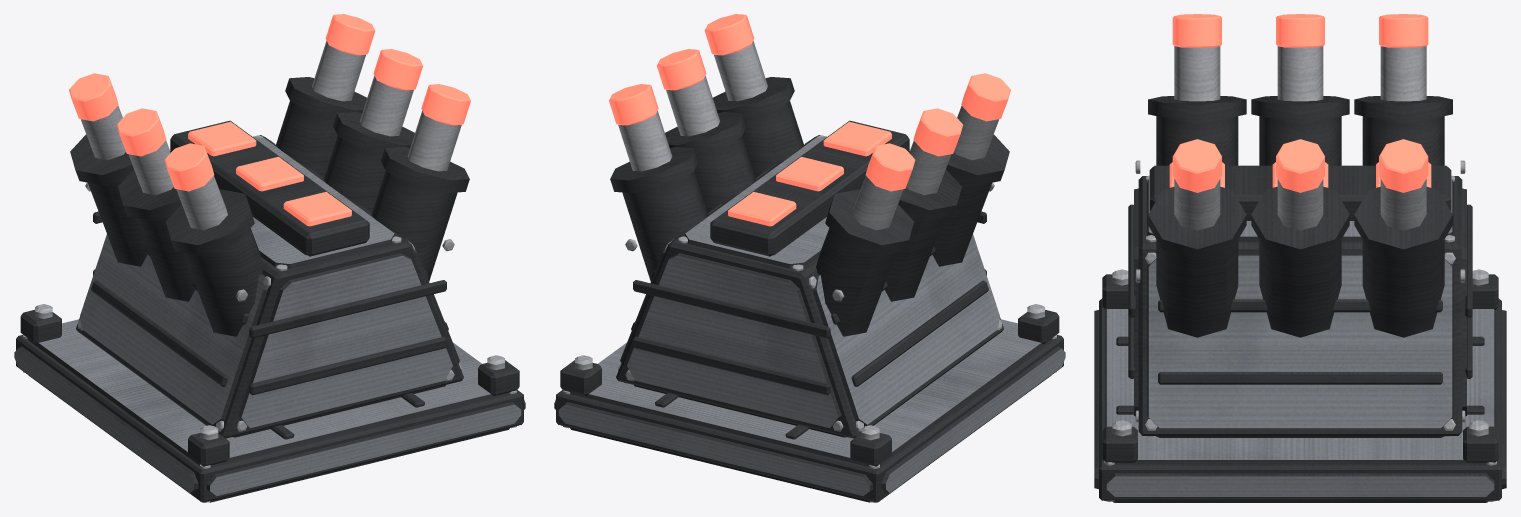
File: R4X_Overdrive.glb
3 views of the same model, side by side, from view 1: azimuth 30°, elevation 25°; view 2: azimuth 150°, elevation 25°; view 3: azimuth 270°, elevation 25° (orthographic). The views are drawn at different scales.
Parts seen in each view (by area): view 1: R4X_Overdrive_Body; view 2: R4X_Overdrive_Body; view 3: R4X_Overdrive_Body.
Boxes of the visible parts, x1,y1,x2,y2 form: R4X_Overdrive_Body: (14,14,525,502); R4X_Overdrive_Body: (554,14,1065,502); R4X_Overdrive_Body: (1094,14,1506,502).
Bounding box in the file's own units: 0.52 × 0.4765 × 0.52.
Materials: 4 (3 with a texture image).
